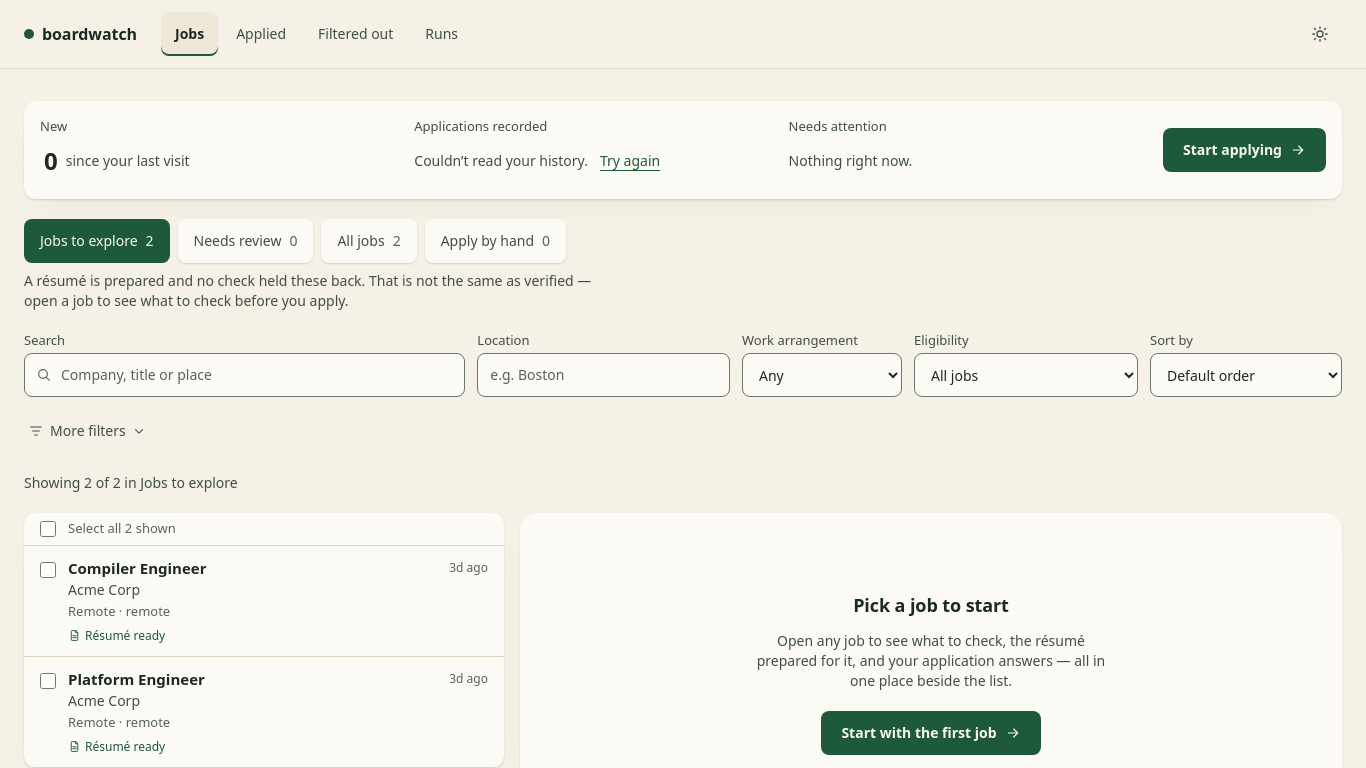
Scenario: the narrow-tier detail sheet › is a plain complementary column at the side-by-side tier, never a dialog
Expected: the table named "Jobs to explore" is shown, 24,513 -> 504,767
Click the row that starts with "Compiler Engineer" at (264, 601), box 24,546 -> 504,657
(page scrolled)
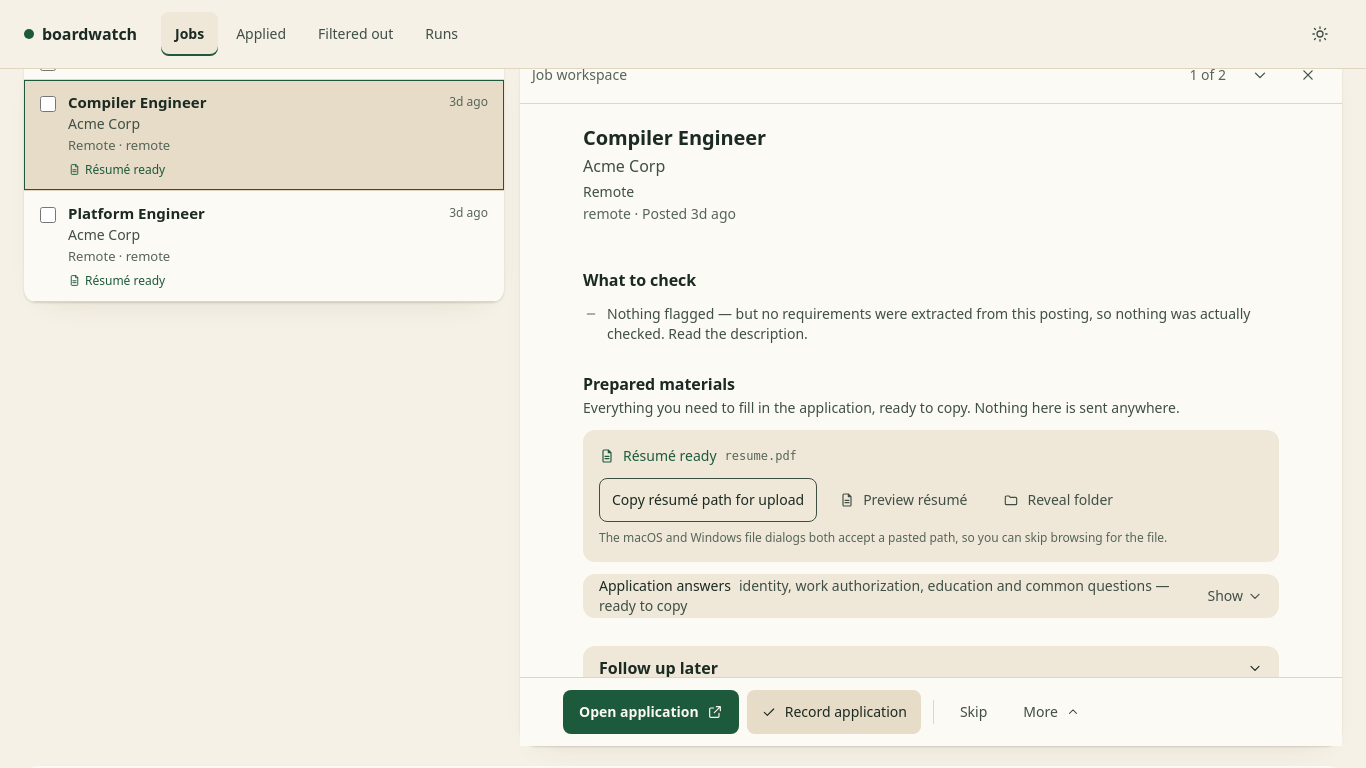
Result: the heading "Compiler Engineer" is shown at 583,124 -> 766,151
Result: the element "Job workspace" is shown at 520,47 -> 1342,746
